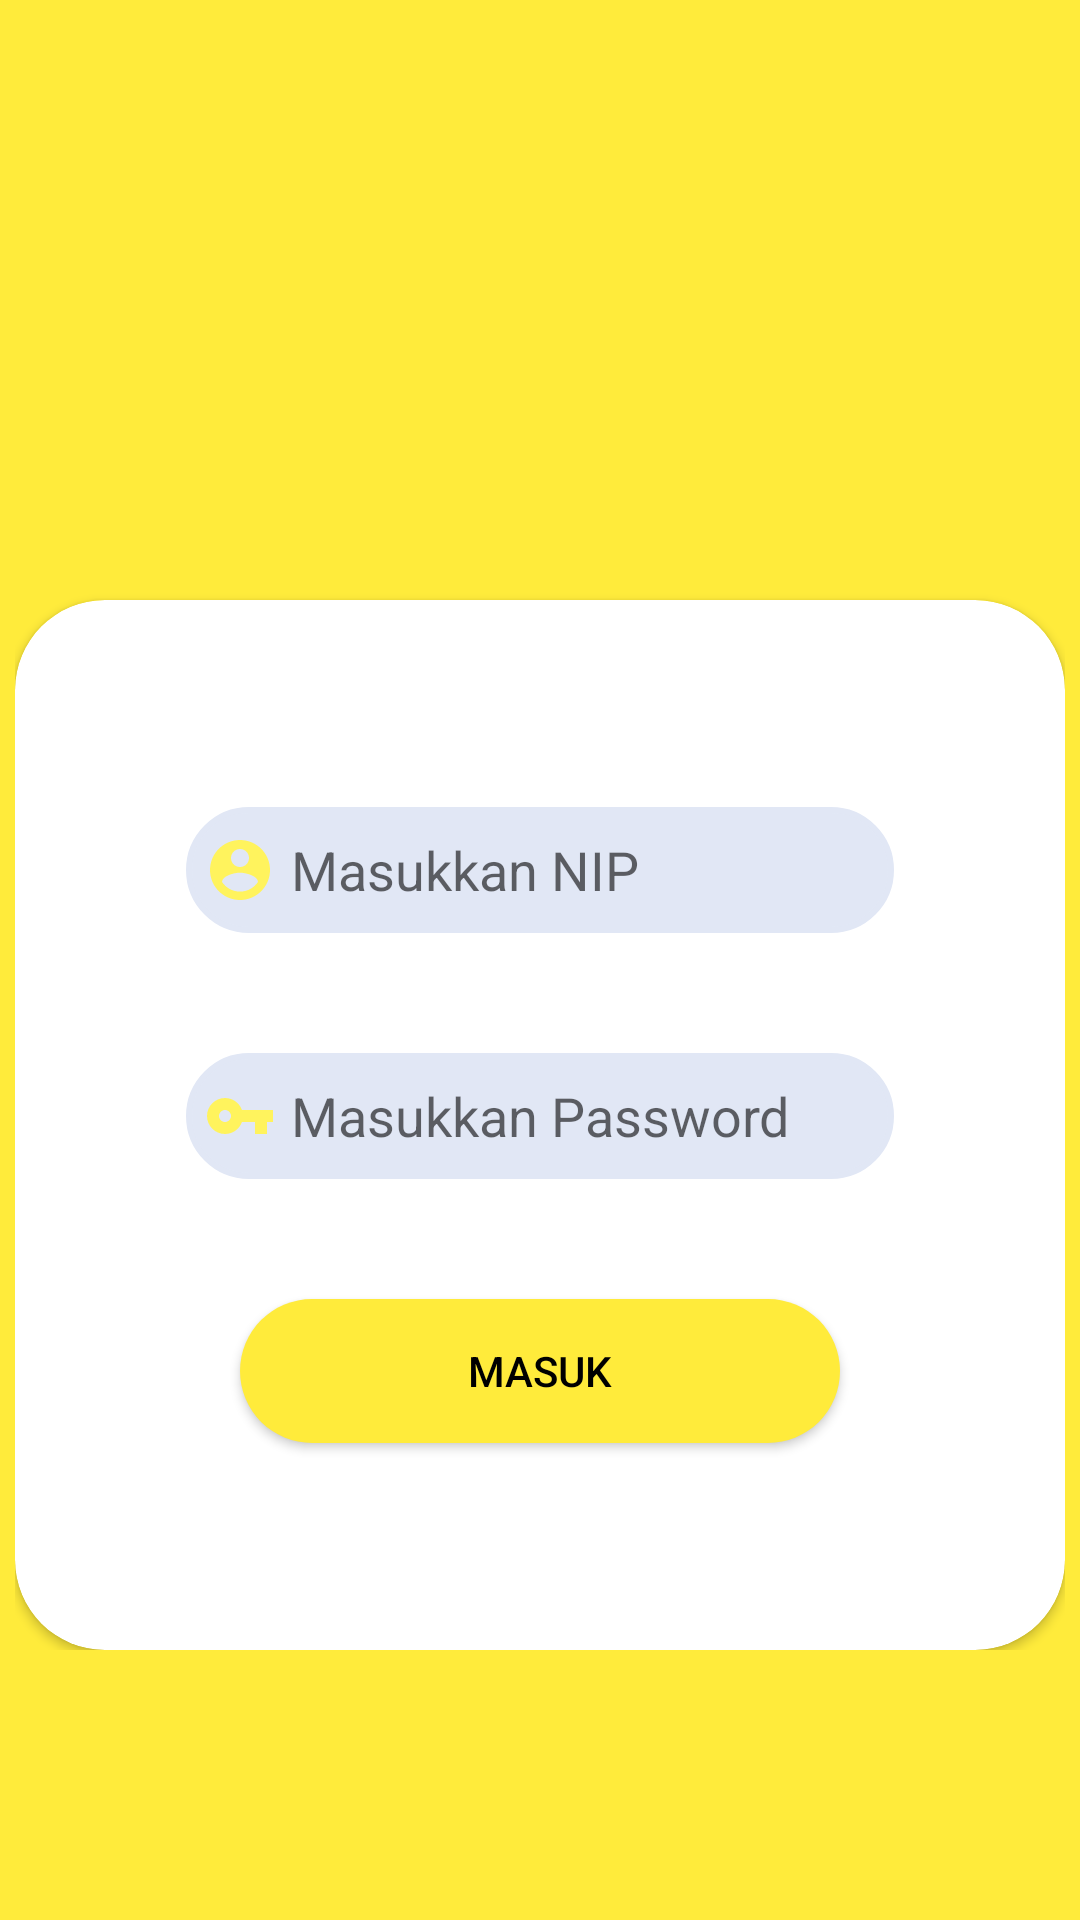

Locate icon controls on the screen. Image size 1080 × 1920, boxes as (x1, y1, x2, y2).
account circle: (210, 840, 270, 900)
vpn key: (207, 1098, 273, 1134)
